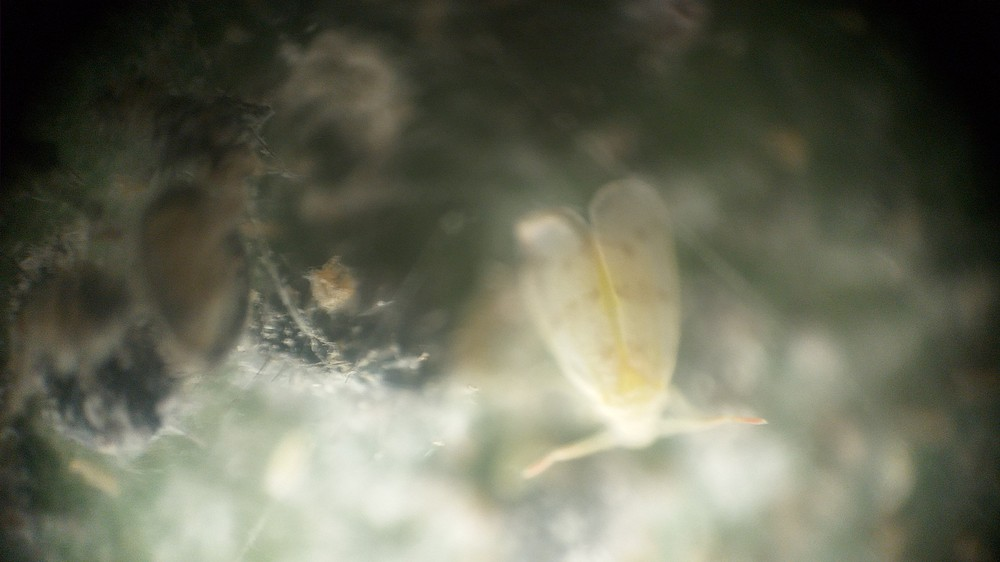Mosca Blanca: (473, 171, 799, 500)
